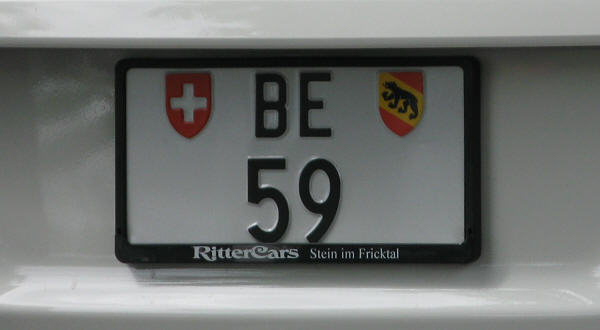license_plate: (115, 56, 479, 250)
